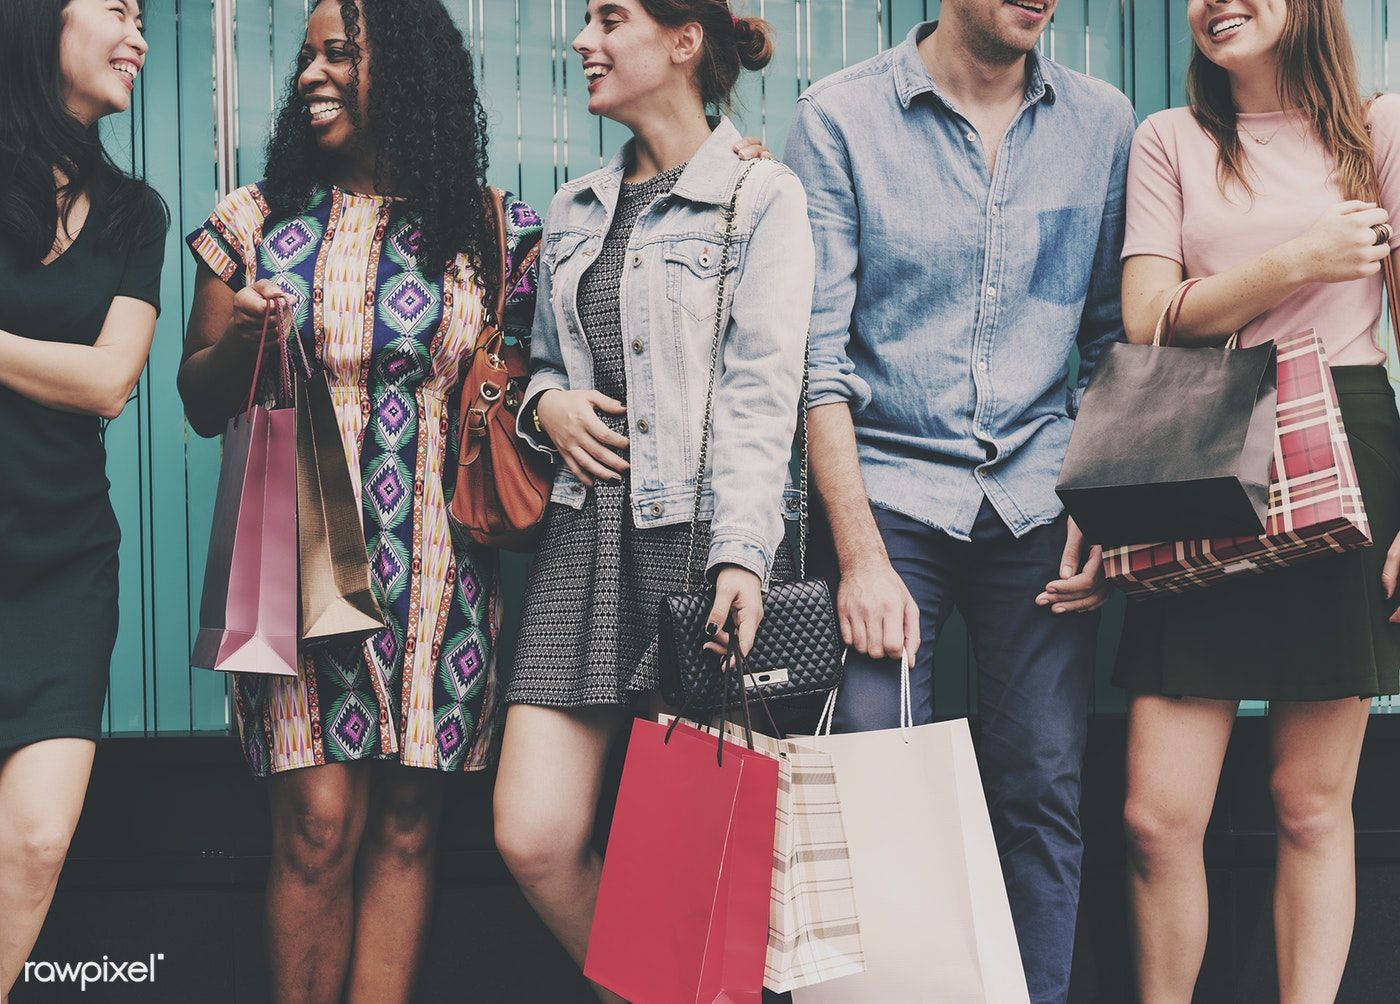Person: (177, 1, 517, 958), (1093, 8, 1400, 975), (810, 1, 1128, 862), (543, 1, 806, 983), (1, 1, 172, 995)
